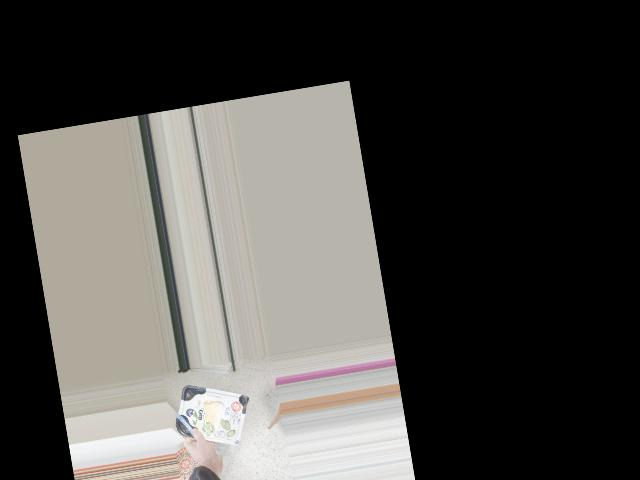cheese: (178, 385, 247, 445)
